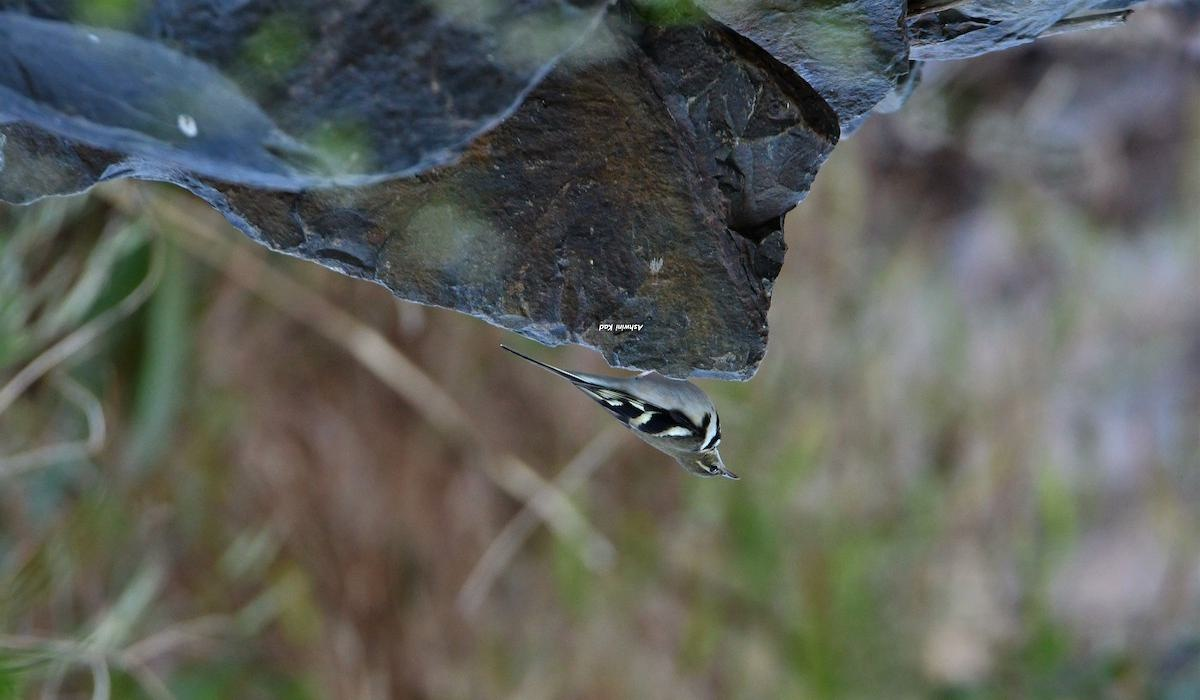wagtail: (531, 331, 738, 481)
